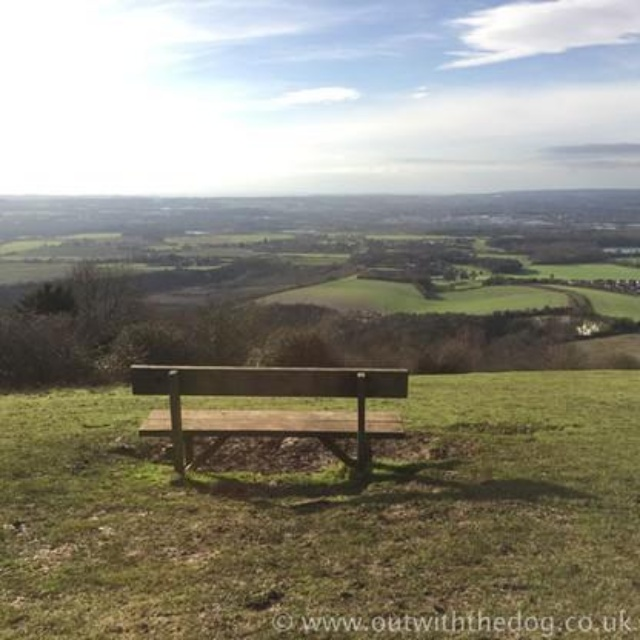obstacle: (114, 343, 426, 505)
